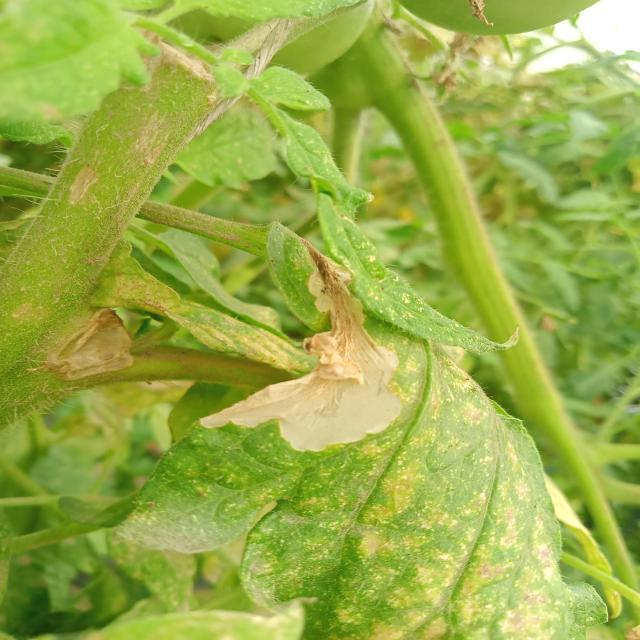Tuta absoluta: (199, 253, 448, 514)
